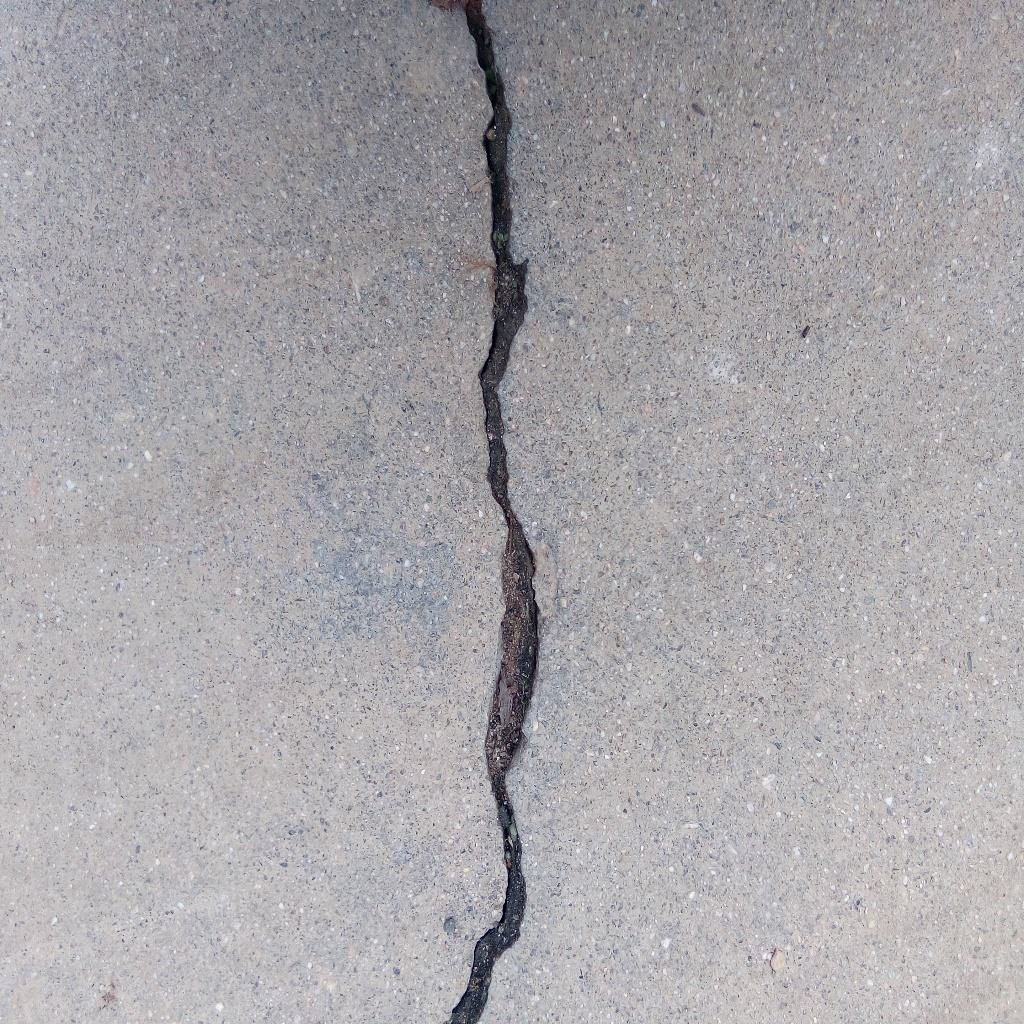Crack: (443, 1, 542, 1024)
